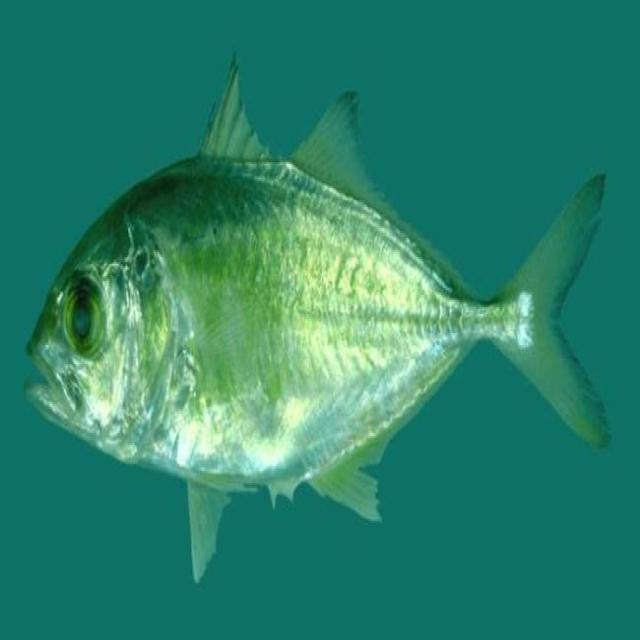ikan: (14, 40, 618, 616)
